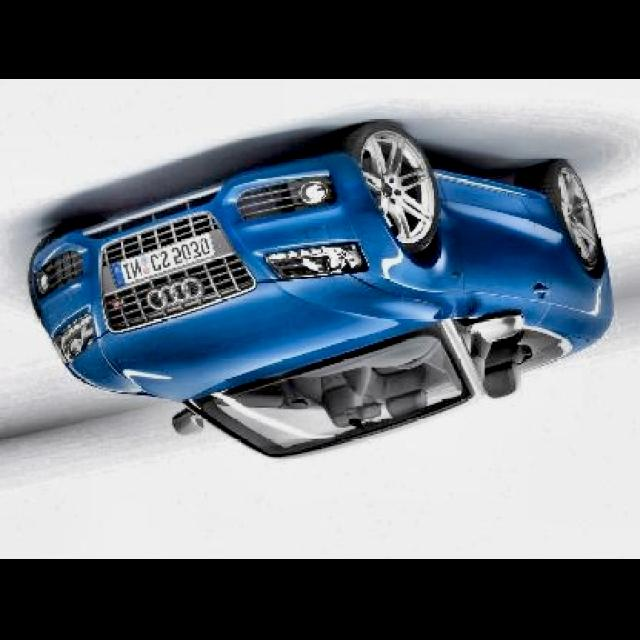blue: (34, 134, 623, 467)
